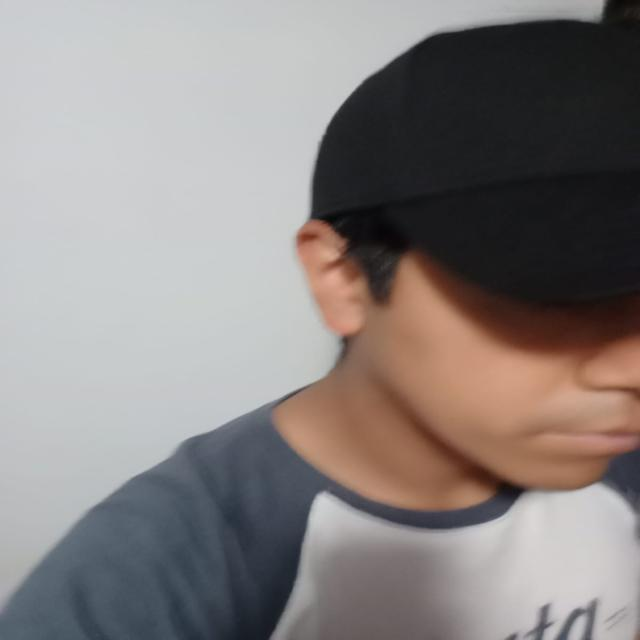ear: (297, 220, 375, 338)
